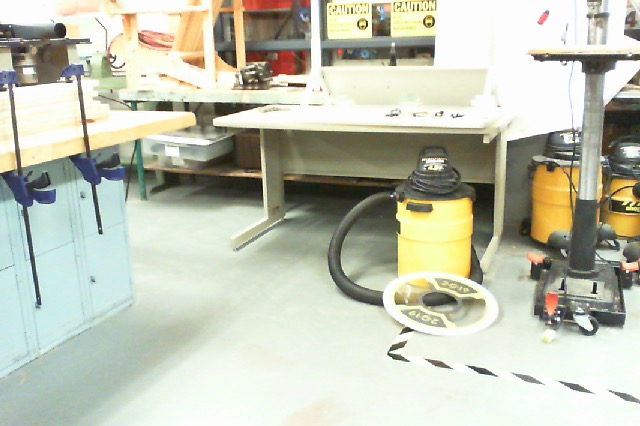Hatch: (382, 270, 499, 336)
